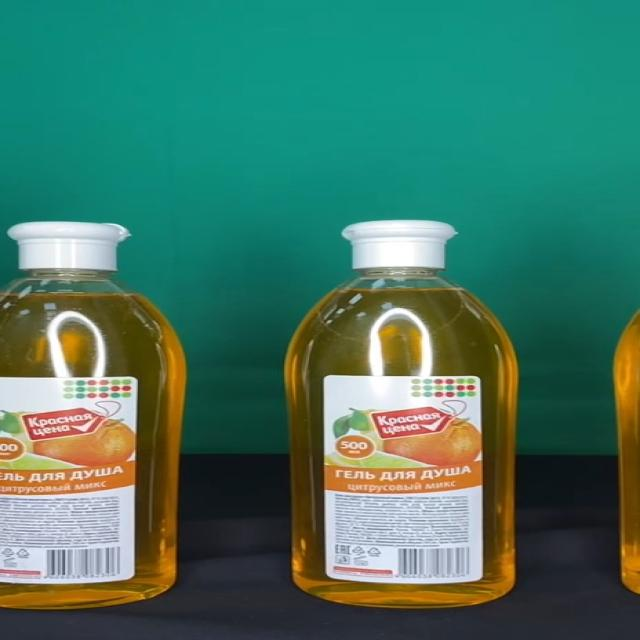Bottle: (285, 221, 517, 608), (0, 220, 187, 610)
Cap: (5, 220, 131, 272), (341, 221, 458, 268)
